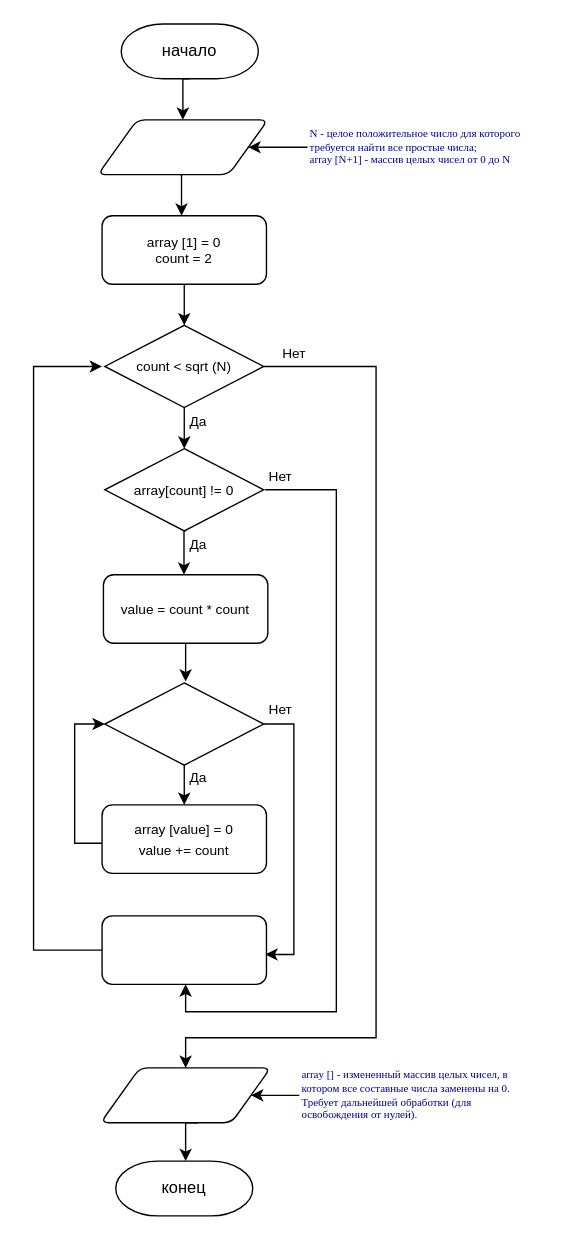
Image size: 564x1240. Some labels were removed from this diagram. Here are the shapes that lost their labels. From the top down, the box of each, then its label:
(97, 119, 268, 175): ввод N array [N+1]
(103, 682, 264, 765): value <= N
(101, 914, 266, 984): count += 1
(99, 1067, 271, 1123): array [N+1]
